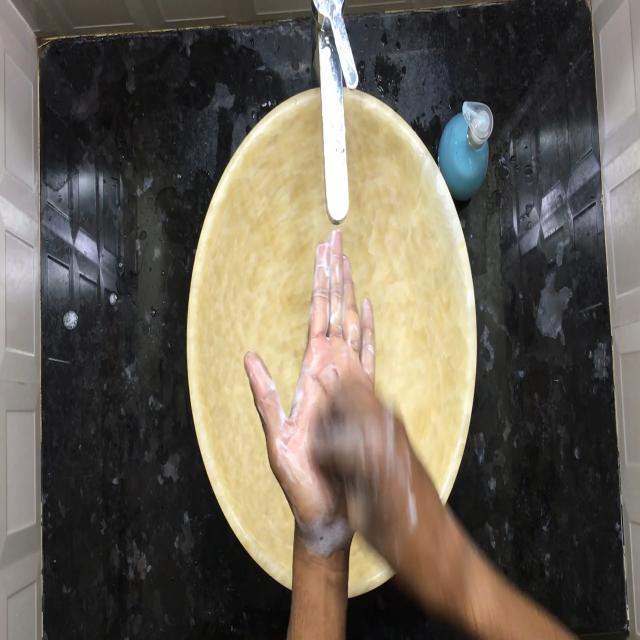step_6: (242, 213, 434, 589)
